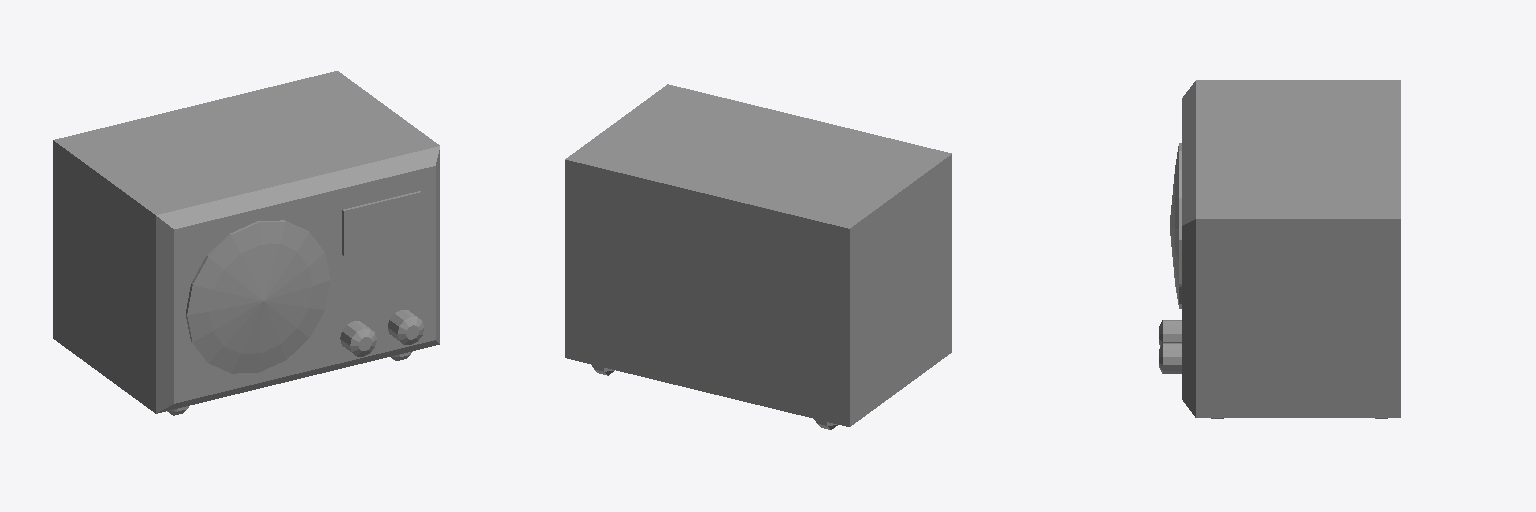
File: radio-ntx.obj
The picture shows the model from 3 angles: view 1: azimuth 30°, elevation 25°; view 2: azimuth 150°, elevation 25°; view 3: azimuth 270°, elevation 25°; orthographic projection.
Parts seen in each view (by area): view 1: Cube_Cube.001; view 2: Cube_Cube.001; view 3: Cube_Cube.001.
Boxes of the visible parts, x1,y1,x2,y2 form: Cube_Cube.001: [53, 71, 439, 415]; Cube_Cube.001: [565, 84, 951, 429]; Cube_Cube.001: [1159, 80, 1400, 418].
Size of the model in its own units: 6 by 4.28 by 4.43.